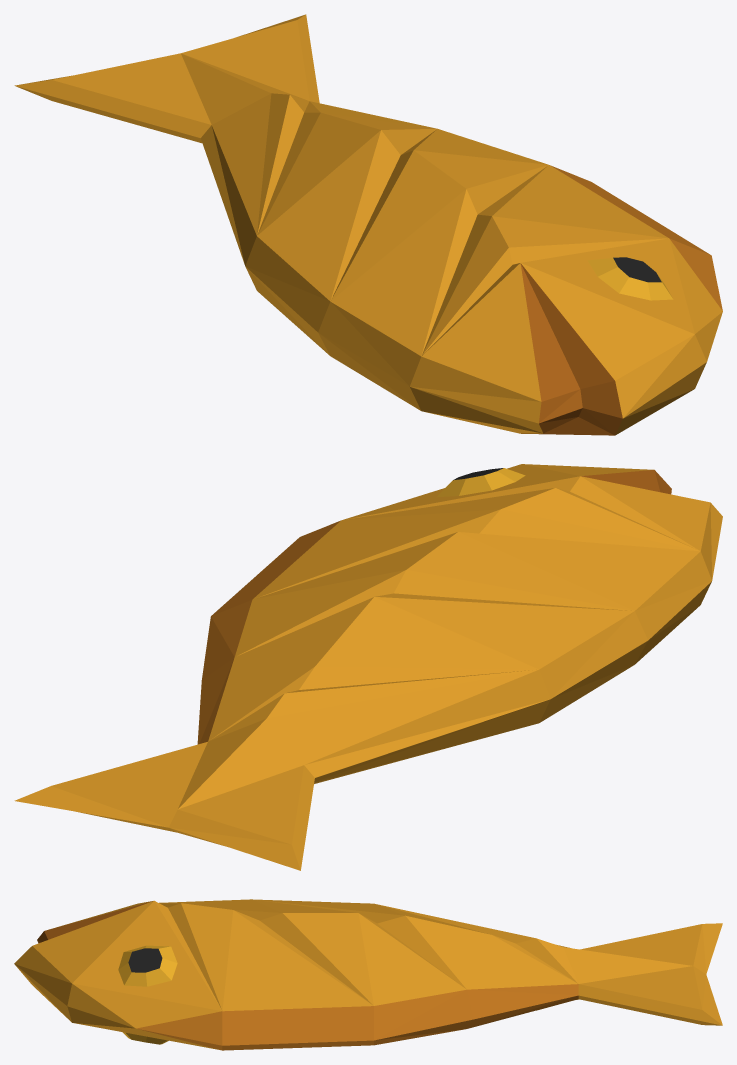
The model's file is Fish_01_Cooked.fbx.
The picture shows the model from 3 angles, top to bottom: view 1: azimuth 30°, elevation 25°; view 2: azimuth 150°, elevation 25°; view 3: azimuth 270°, elevation 25°; orthographic projection. The views are drawn at different scales.
Visible parts, largest first — view 1: Fish_01_Cooked; view 2: Fish_01_Cooked; view 3: Fish_01_Cooked.
Boxes of the visible parts, left/top/right/bottom form: Fish_01_Cooked: left=14, top=14, right=722, bottom=435; Fish_01_Cooked: left=14, top=464, right=722, bottom=870; Fish_01_Cooked: left=14, top=899, right=722, bottom=1050.
Bounding box in the file's own units: 37.84 × 16.52 × 86.42.
